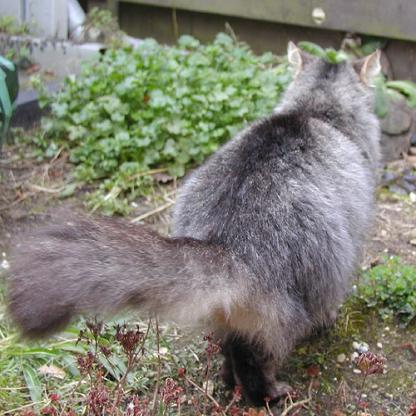cat: (6, 39, 383, 405)
